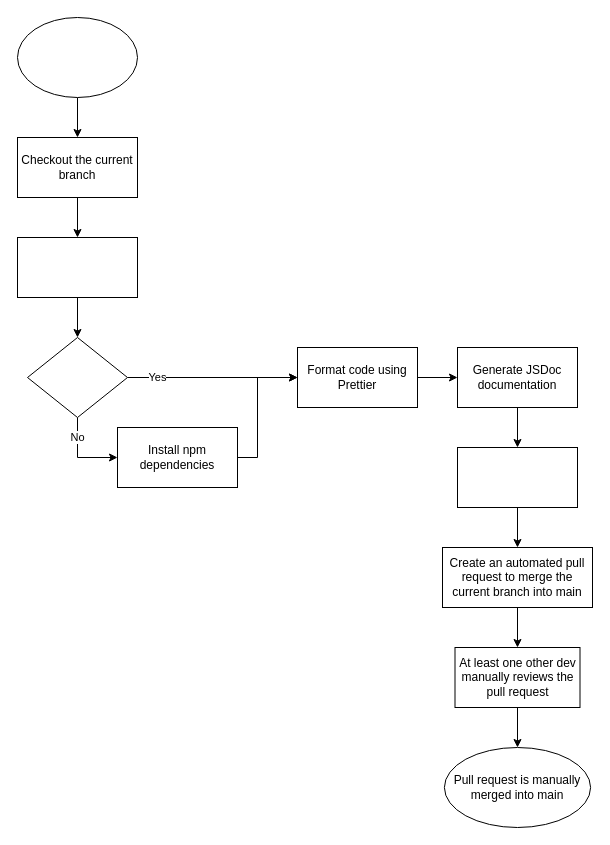
Some shapes in this 610 by 845 pixel diagram are drawn without their labels. The centre of each missing label's shape, as x and y in pixels:
"Are npm dependencies cached?" belongs at point 77,377.
"Dev pushes to a branch" belongs at point 77,57.
"Restore node_modules cache" belongs at point 77,267.
"Run ESLint to check for style errors" belongs at point 517,477.
